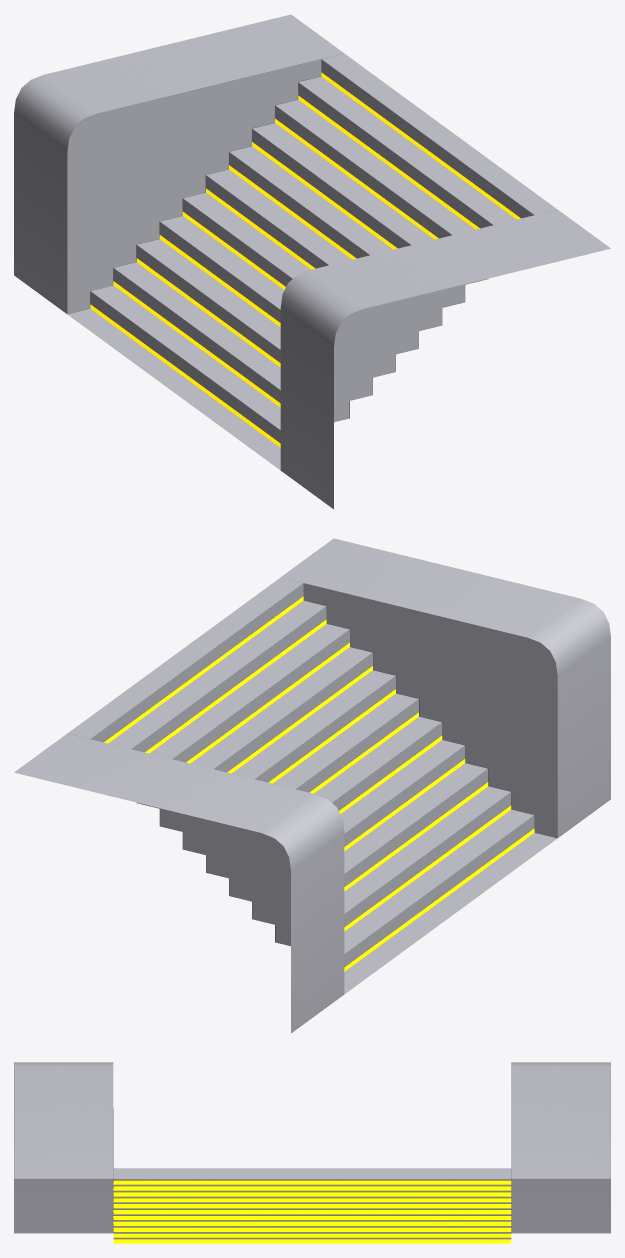
The model's file is Plate_Form_04_LP.FBX.
The picture shows the model from 3 angles, top to bottom: view 1: azimuth 30°, elevation 25°; view 2: azimuth 150°, elevation 25°; view 3: azimuth 270°, elevation 25°; orthographic projection. The views are drawn at different scales.
Visible parts, largest first — view 1: Plate_Form_04_LP; view 2: Plate_Form_04_LP; view 3: Plate_Form_04_LP.
Boxes of the visible parts, x1,y1,x2,y2 form: Plate_Form_04_LP: (14,14,610,509); Plate_Form_04_LP: (14,538,610,1033); Plate_Form_04_LP: (14,1062,610,1243).
Size of the model in its own units: 6 by 4 by 12.
